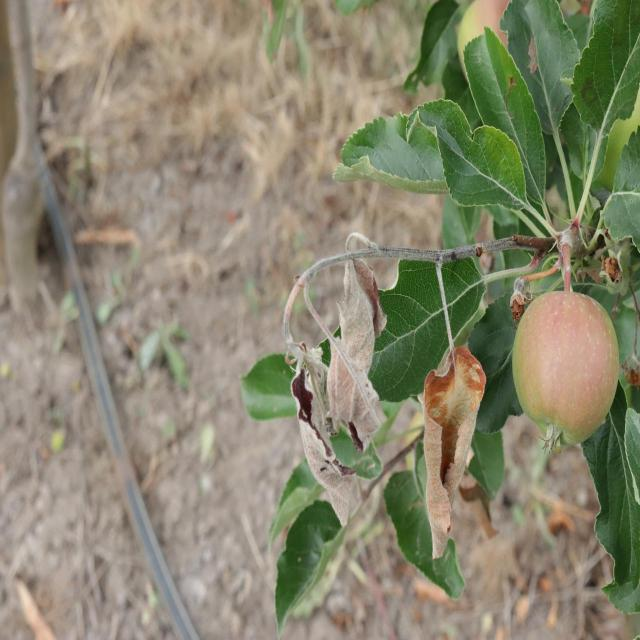-FireBlight-: (287, 245, 387, 523), (412, 347, 490, 565)
